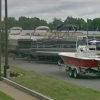Boat: (53, 38, 100, 92)
